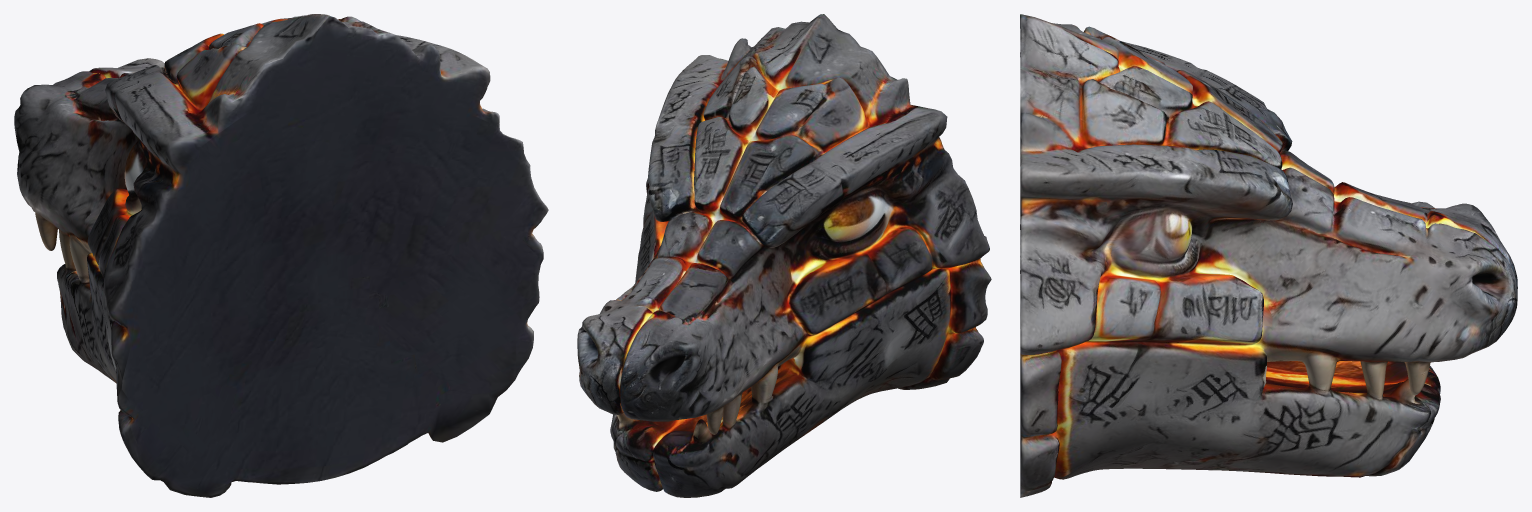
File: komodo-agung.glb
The picture shows the model from 3 angles, left to right: view 1: azimuth 30°, elevation 25°; view 2: azimuth 150°, elevation 25°; view 3: azimuth 270°, elevation 25°; orthographic projection. The views are drawn at different scales.
Visible parts, largest first — view 1: komodo-agung; view 2: komodo-agung; view 3: komodo-agung.
Boxes of the visible parts, x1=… form: komodo-agung: x1=14, y1=14, x2=548, y2=497; komodo-agung: x1=577, y1=14, x2=991, y2=497; komodo-agung: x1=1020, y1=14, x2=1517, y2=497.
Bounding box in the file's own units: 0.9729 × 1 × 1.02.
Materials: 1 (1 with a texture image).
